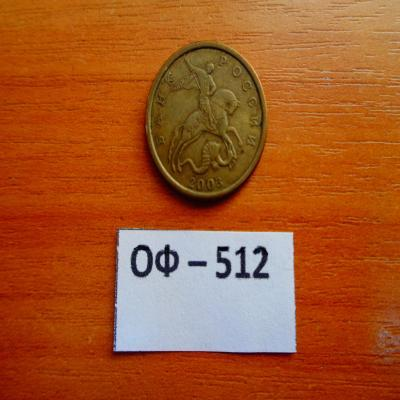numismatics: (144, 41, 268, 205)
